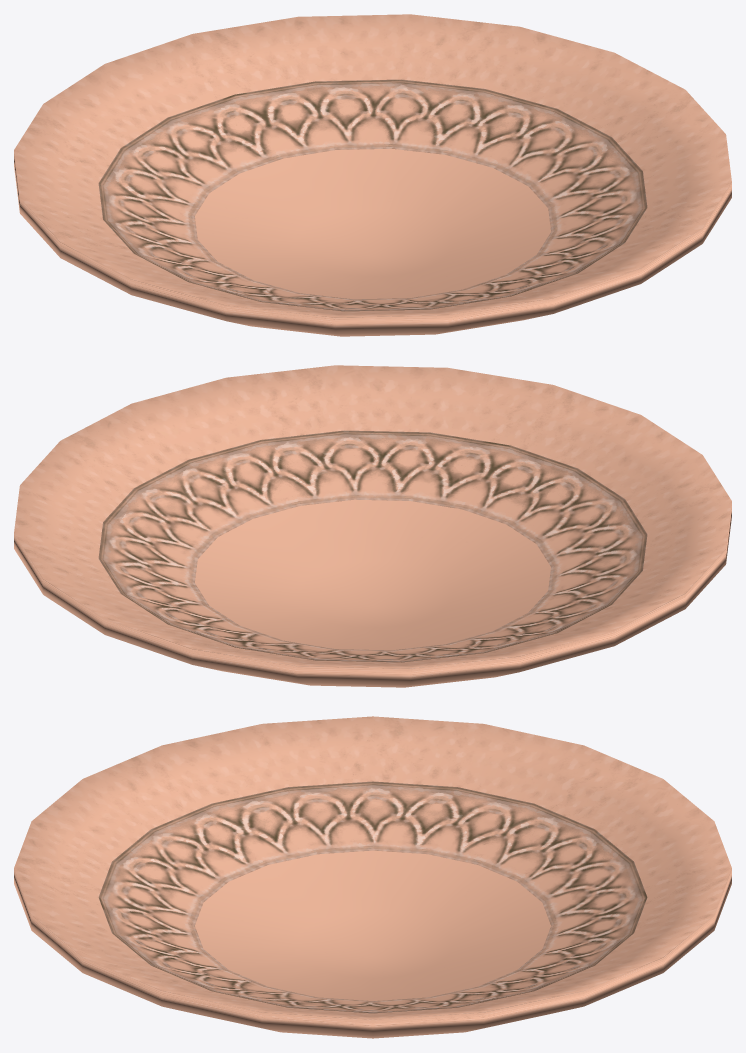
File: Plate.fbx
3 views of the same model, one above another, from view 1: azimuth 30°, elevation 25°; view 2: azimuth 150°, elevation 25°; view 3: azimuth 270°, elevation 25° (orthographic).
Parts seen in each view (by area): view 1: plate_1; view 2: plate_1; view 3: plate_1.
Part boxes in pixels (bbox=[...]): plate_1: bbox=[14, 14, 731, 336]; plate_1: bbox=[14, 365, 731, 687]; plate_1: bbox=[14, 716, 731, 1038].
Bounding box in the file's own units: 75.69 × 12.15 × 75.69.
